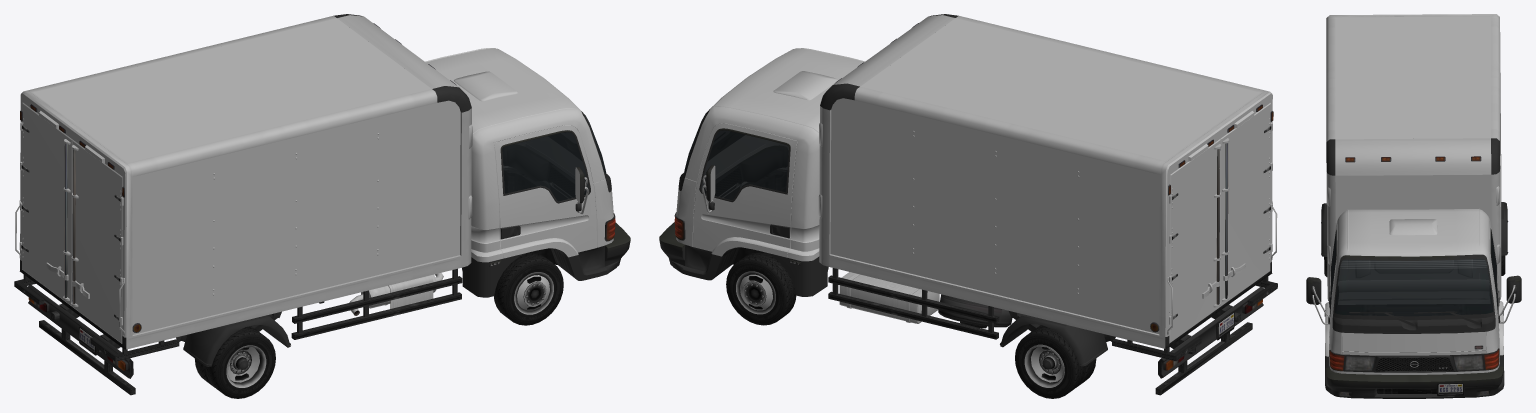
Rendered from caminhao.glb.
3 renders of one model, left to right at view 1: azimuth 30°, elevation 25°; view 2: azimuth 150°, elevation 25°; view 3: azimuth 270°, elevation 25°, orthographic. The views are drawn at different scales.
Parts seen in each view (by area): view 1: LCT300095_Body_lct3000_Bodymat_0, LCT300095_Bottom_UCB_BOTTOM_0, LCT300095_Reardoor_Left_lct3000_Bodymat_0, LCT300095_Reardoor_Right_lct3000_Bodymat_0, LCT300095_Glass_Passenger_UCB_Lights_and_Glass_Transperent_0, LCT300095_WheelStock_FR_RB1c_Tire_1k_0, LCT300095_WheelStock_RR_RB1c_Tire_1k_0, LCT300095_Bumper_rear_UCB_BOTTOM_0, LCT300095_Reardoor_Left_Inner_UCB_BOTTOM_0, LCT300095_Reardoor_Right_Inner_UCB_BOTTOM_0, LCT300095_Bumper_front_UCB_BOTTOM_0; view 2: LCT300095_Body_lct3000_Bodymat_0, LCT300095_Bottom_UCB_BOTTOM_0, LCT300095_Reardoor_Right_lct3000_Bodymat_0, LCT300095_Reardoor_Left_lct3000_Bodymat_0, LCT300095_Glass_Driver_UCB_Lights_and_Glass_Transperent_0, LCT300095_WheelStock_FL_RB1c_Tire_1k_0, LCT300095_WheelStock_RL_RB1c_Tire_1k_0, LCT300095_Bumper_rear_UCB_BOTTOM_0, LCT300095_Reardoor_Right_Inner_UCB_BOTTOM_0, LCT300095_Reardoor_Left_Inner_UCB_BOTTOM_0, LCT300095_Bumper_front_UCB_BOTTOM_0; view 3: LCT300095_Body_lct3000_Bodymat_0, LCT300095_Bottom_UCB_BOTTOM_0, LCT300095_Windshield_UCB_Lights_and_Glass_Transperent_0, LCT300095_Bumper_front_UCB_BOTTOM_0, LCT300095_Headlights_Glass_UCB_Lights_and_Glass_Transperent_, LCT300095_Headlights_UCB_Lights_and_Glass_0, LCT300095_Numberplate_front_Numberplates_Misk_U_0, LCT300095_Glass_Driver_UCB_Lights_and_Glass_Transperent_0.
Part boxes in pixels (box(x1,y1,x2,y2)): LCT300095_Body_lct3000_Bodymat_0: box(19, 18, 613, 337); LCT300095_Bottom_UCB_BOTTOM_0: box(14, 14, 615, 395); LCT300095_Reardoor_Left_lct3000_Bodymat_0: box(22, 102, 72, 306); LCT300095_Reardoor_Right_lct3000_Bodymat_0: box(72, 140, 122, 343); LCT300095_Glass_Passenger_UCB_Lights_and_Glass_Transperent_0: box(502, 132, 589, 201); LCT300095_WheelStock_FR_RB1c_Tire_1k_0: box(494, 253, 563, 325); LCT300095_WheelStock_RR_RB1c_Tire_1k_0: box(195, 326, 275, 398); LCT300095_Bumper_rear_UCB_BOTTOM_0: box(28, 285, 133, 378); LCT300095_Reardoor_Left_Inner_UCB_BOTTOM_0: box(21, 125, 70, 300); LCT300095_Reardoor_Right_Inner_UCB_BOTTOM_0: box(71, 145, 120, 320); LCT300095_Bumper_front_UCB_BOTTOM_0: box(605, 223, 630, 273); LCT300095_Body_lct3000_Bodymat_0: box(676, 18, 1272, 336); LCT300095_Bottom_UCB_BOTTOM_0: box(674, 14, 1277, 395); LCT300095_Reardoor_Right_lct3000_Bodymat_0: box(1219, 103, 1270, 306); LCT300095_Reardoor_Left_lct3000_Bodymat_0: box(1169, 139, 1220, 343); LCT300095_Glass_Driver_UCB_Lights_and_Glass_Transperent_0: box(701, 130, 788, 200); LCT300095_WheelStock_FL_RB1c_Tire_1k_0: box(726, 252, 796, 325); LCT300095_WheelStock_RL_RB1c_Tire_1k_0: box(1015, 325, 1096, 398); LCT300095_Bumper_rear_UCB_BOTTOM_0: box(1158, 287, 1263, 378); LCT300095_Reardoor_Right_Inner_UCB_BOTTOM_0: box(1221, 125, 1271, 301); LCT300095_Reardoor_Left_Inner_UCB_BOTTOM_0: box(1172, 144, 1221, 319); LCT300095_Bumper_front_UCB_BOTTOM_0: box(659, 222, 685, 273); LCT300095_Body_lct3000_Bodymat_0: box(1325, 16, 1503, 374); LCT300095_Bottom_UCB_BOTTOM_0: box(1306, 14, 1521, 388); LCT300095_Windshield_UCB_Lights_and_Glass_Transperent_0: box(1334, 258, 1493, 316); LCT300095_Bumper_front_UCB_BOTTOM_0: box(1325, 366, 1503, 398); LCT300095_Headlights_Glass_UCB_Lights_and_Glass_Transperent_: box(1329, 349, 1499, 371); LCT300095_Headlights_UCB_Lights_and_Glass_0: box(1345, 355, 1483, 370); LCT300095_Numberplate_front_Numberplates_Misk_U_0: box(1438, 384, 1462, 394); LCT300095_Glass_Driver_UCB_Lights_and_Glass_Transperent_0: box(1491, 232, 1497, 309).
Size of the model in its own units: 6.02 by 2.85 by 2.61.
Materials: 7 (6 with a texture image).
